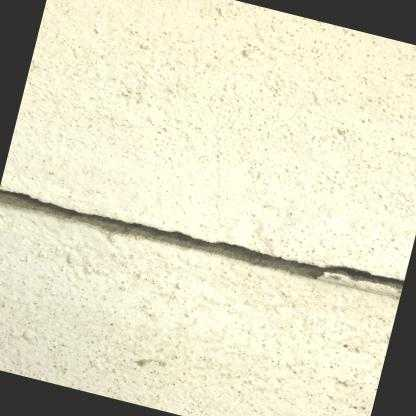crack: (0, 190, 404, 290)
